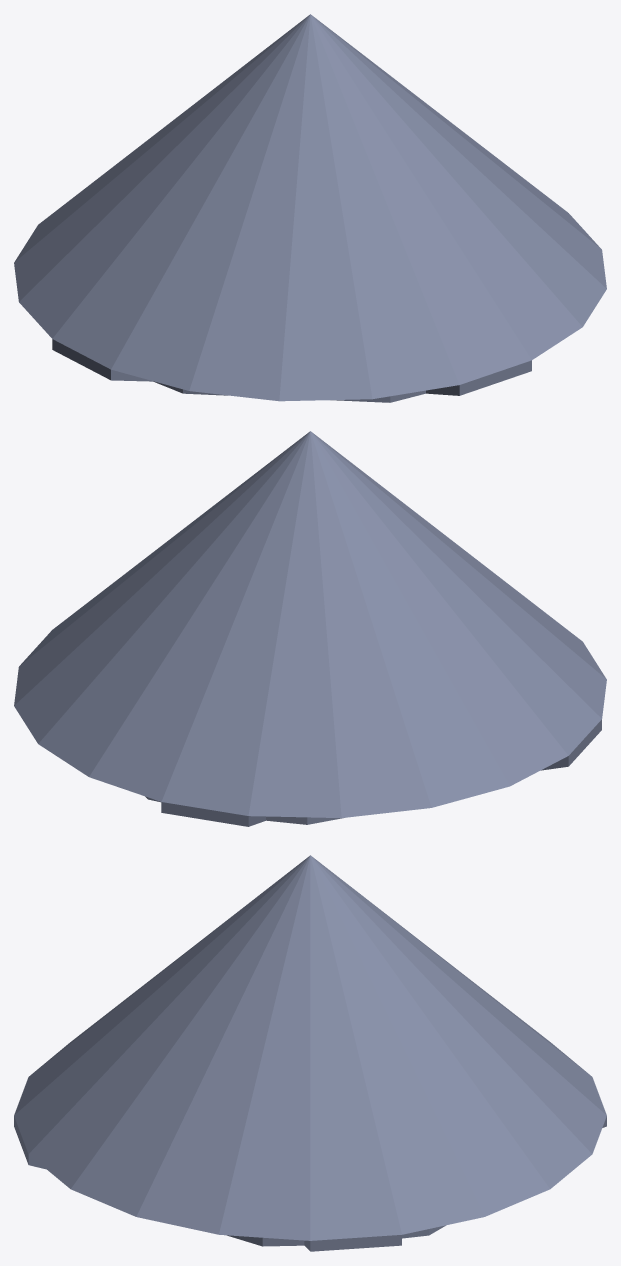
File: lamp.fbx
3 views of the same model, one above another, from view 1: azimuth 30°, elevation 25°; view 2: azimuth 150°, elevation 25°; view 3: azimuth 270°, elevation 25° (orthographic).
Parts seen in each view (by area): view 1: pCone1; view 2: pCone1; view 3: pCone1.
Part boxes in pixels (x1=…): pCone1: x1=14, y1=14, x2=606, y2=402; pCone1: x1=14, y1=431, x2=606, y2=826; pCone1: x1=14, y1=855, x2=606, y2=1251.
Bounding box in the file's own units: 4.13 × 2.5 × 4.13.
